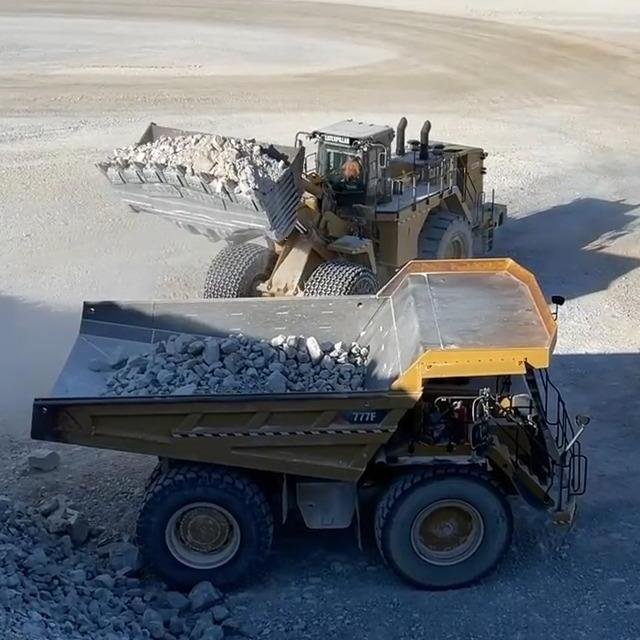NO-Safety Vest: (343, 163, 359, 179)
Person: (339, 156, 361, 179)
dump truck: (22, 248, 598, 594)
wheel loader: (97, 112, 509, 295)
